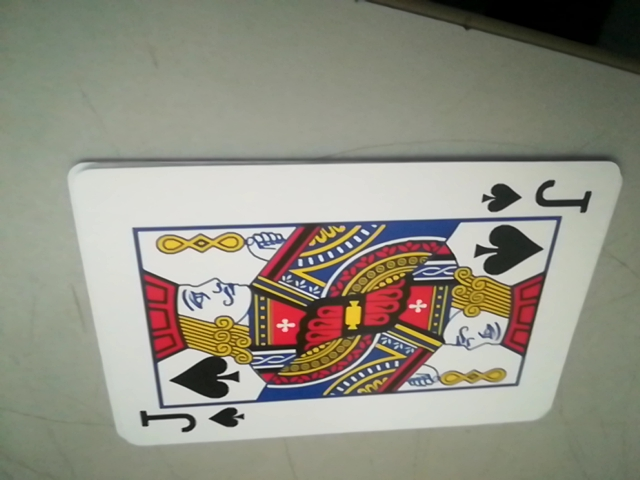ht j: (478, 173, 594, 216)
